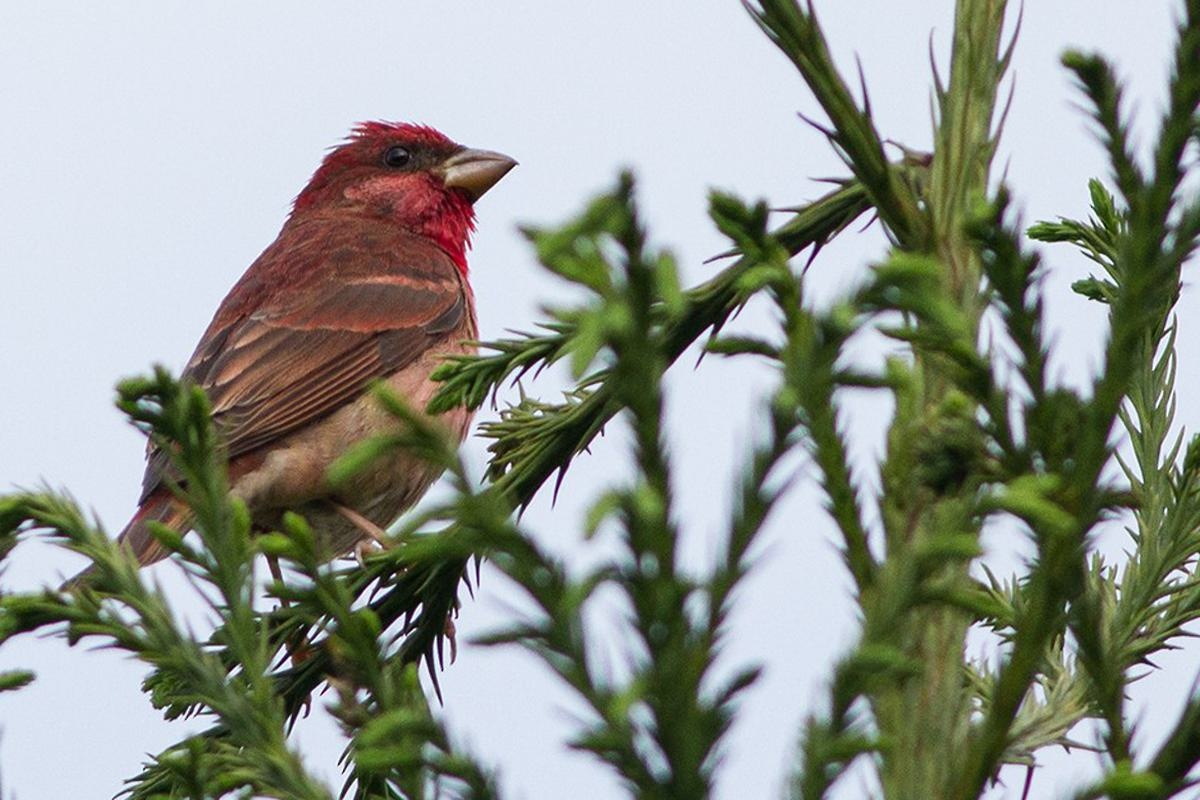rosefinch: (113, 103, 549, 577)
